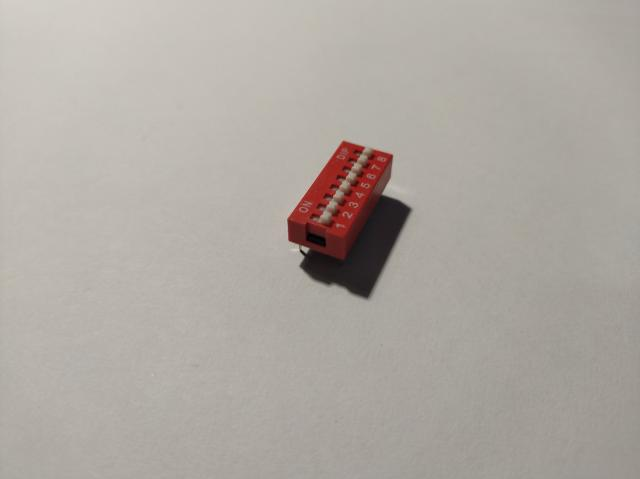dip_switch: (287, 138, 393, 264)
